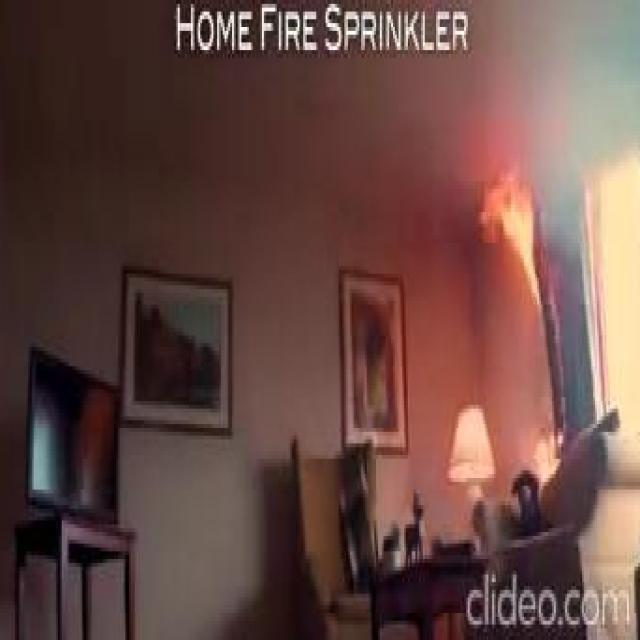smoke: (475, 131, 541, 316), (522, 420, 567, 486)
